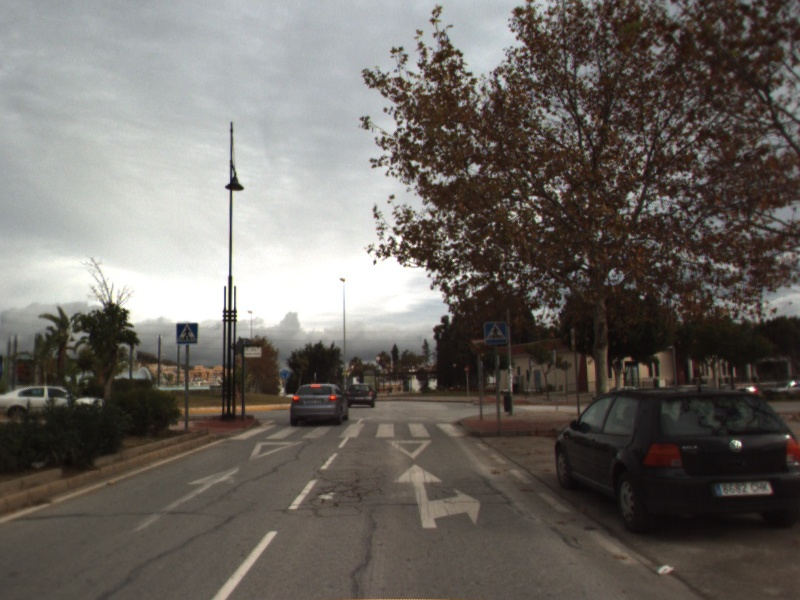STRAIGHT: (129, 464, 242, 534)
STRAIGHT_RIGHT: (391, 462, 482, 530)
